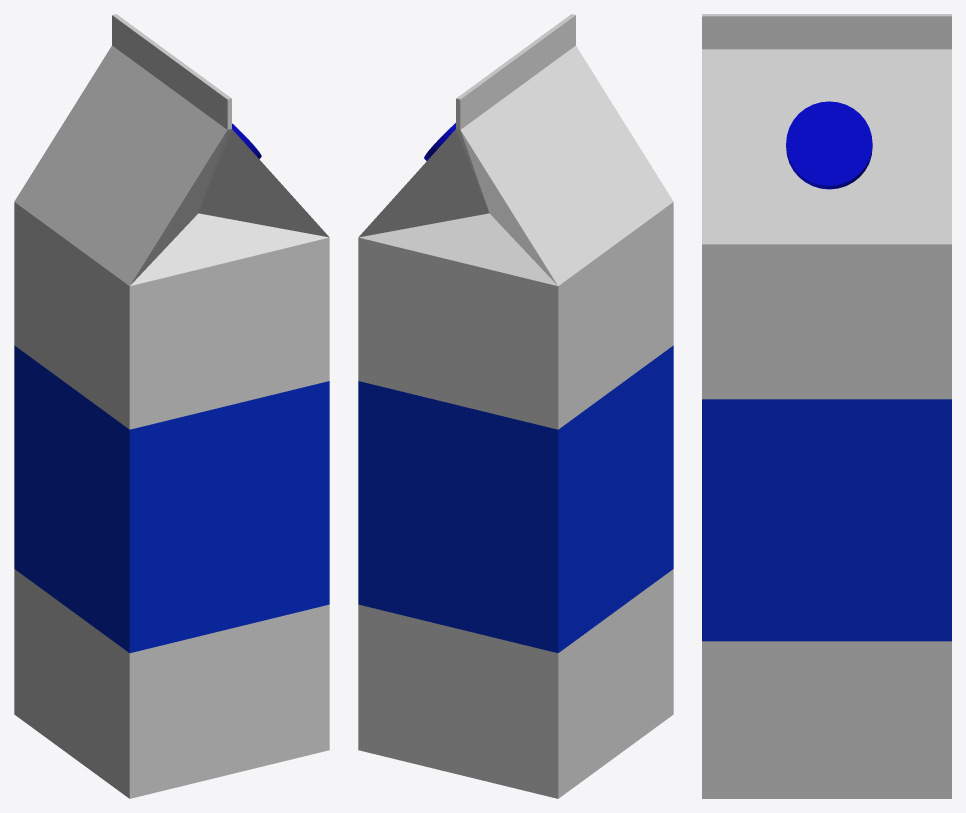
The model's file is milk_carton.fbx.
3 views of the same model, side by side, from view 1: azimuth 30°, elevation 25°; view 2: azimuth 150°, elevation 25°; view 3: azimuth 270°, elevation 25° (orthographic). The views are drawn at different scales.
Parts seen in each view (by area): view 1: Cube; view 2: Cube; view 3: Cube.
Boxes of the visible parts, <box> form: Cube: <box>14,14,329,798</box>; Cube: <box>358,14,673,798</box>; Cube: <box>702,14,951,798</box>.
Size of the model in its own units: 200 by 645 by 200.
